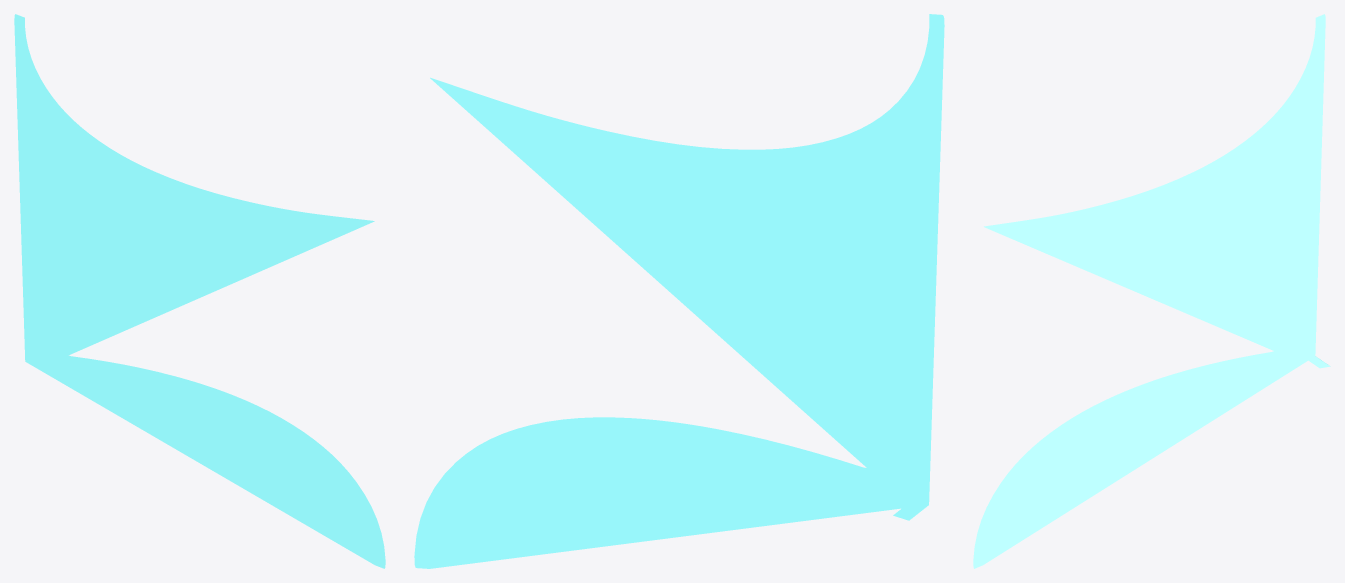
Rendered from Rune_Glow_1.fbx.
The picture shows the model from 3 angles, left to right: view 1: azimuth 30°, elevation 25°; view 2: azimuth 210°, elevation 25°; view 3: azimuth 270°, elevation 25°; orthographic projection. The views are drawn at different scales.
Visible parts, largest first — view 1: Rune1; view 2: Rune1; view 3: Rune1.
Boxes of the visible parts, <box> form: Rune1: <box>14,14,385,568</box>; Rune1: <box>414,14,944,568</box>; Rune1: <box>973,14,1330,568</box>.
Size of the model in its own units: 0.255 by 0.5979 by 0.4179.
